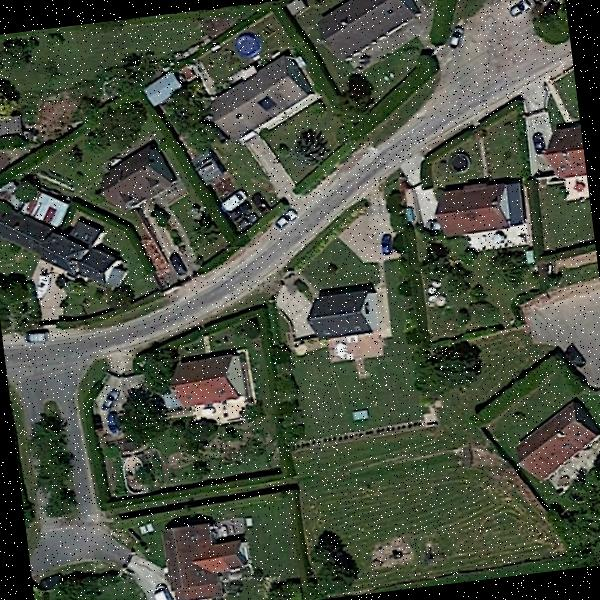Buildings: (0, 193, 116, 306), (210, 54, 311, 132), (318, 0, 421, 69), (165, 518, 247, 600), (512, 407, 596, 474), (100, 144, 176, 212), (310, 287, 396, 346), (534, 118, 590, 206), (176, 354, 248, 409), (439, 188, 516, 229)
